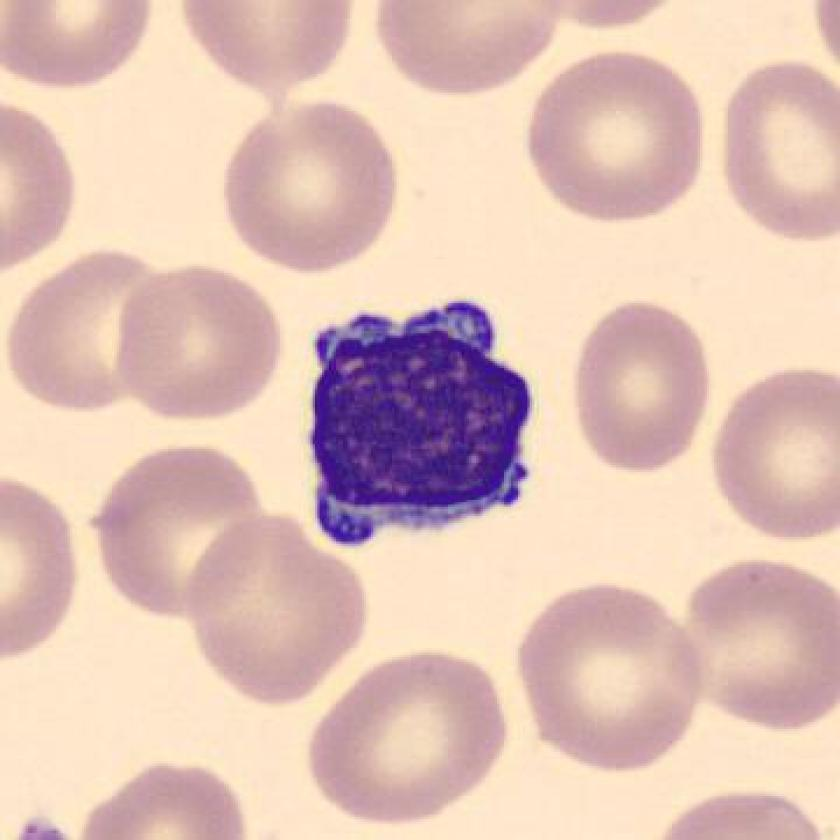lymphocyte: (288, 281, 554, 568)
